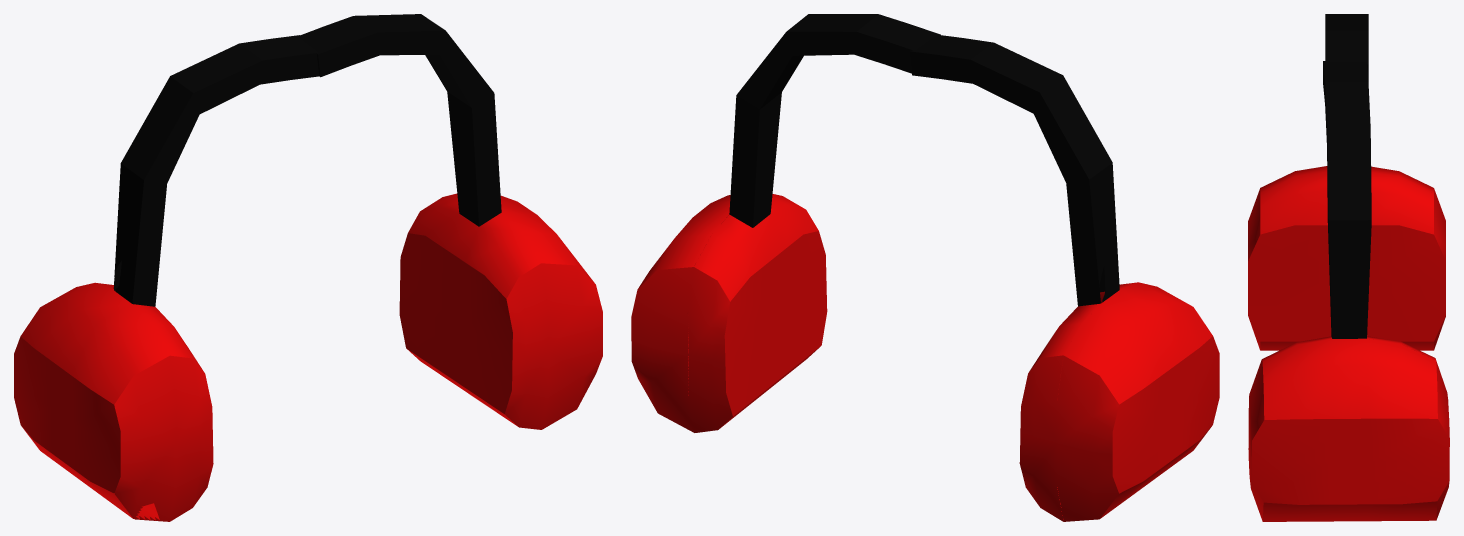
The model's file is Ear Muffs Textured.fbx.
The picture shows the model from 3 angles, left to right: view 1: azimuth 30°, elevation 25°; view 2: azimuth 150°, elevation 25°; view 3: azimuth 270°, elevation 25°; orthographic projection. The views are drawn at different scales.
Visible parts, largest first — view 1: Box003; view 2: Box003; view 3: Box003.
Boxes of the visible parts, x1,y1,x2,y2 form: Box003: (14,14,602,521); Box003: (631,14,1219,521); Box003: (1248,14,1449,521).
Size of the model in its own units: 2.77 by 2.17 by 1.05.
1 material, 1 textured.
